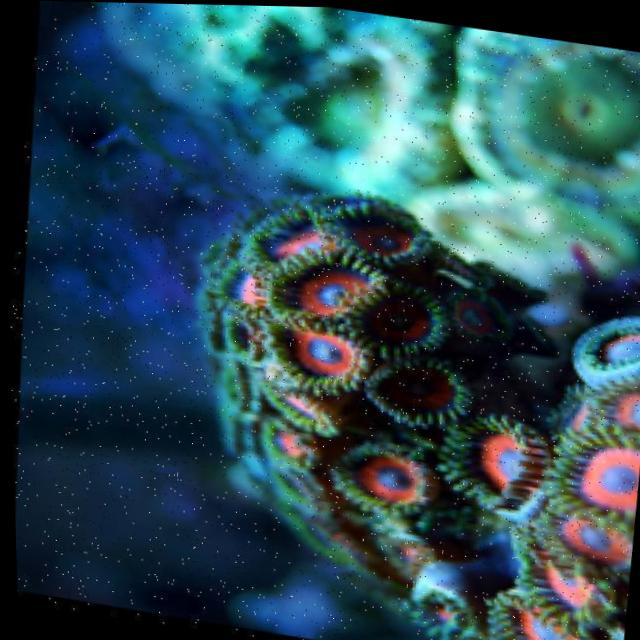Healthy Coral: (118, 155, 515, 606), (460, 235, 640, 640)
